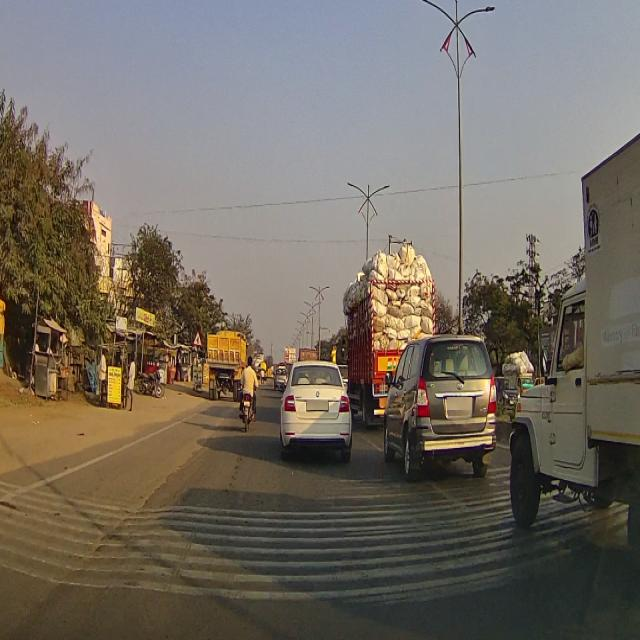car ahead at: (385, 331, 500, 478), (280, 356, 354, 455)
truck ahead at: (508, 161, 640, 542), (204, 324, 242, 390)
